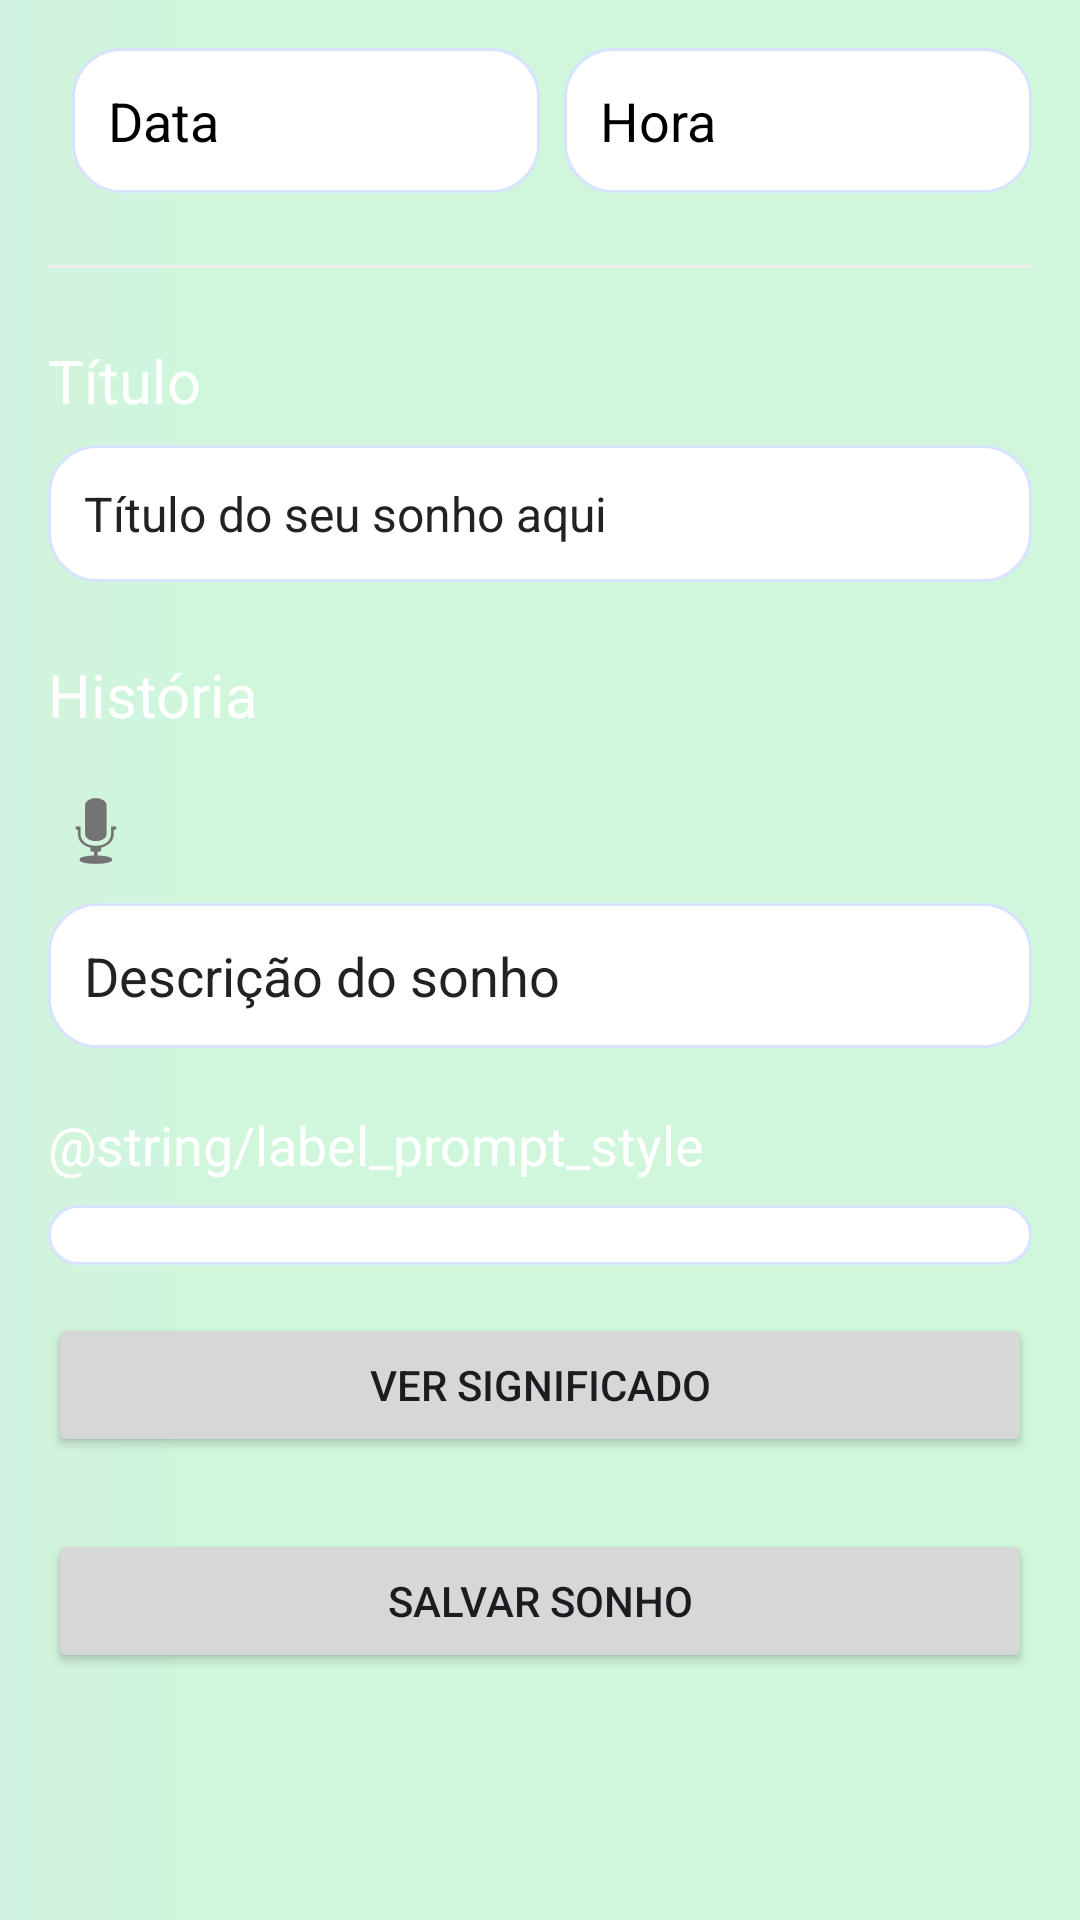

Locate icon controls on the screen. Image size 1080 x 1920, boxes as (x1, y1, x2, y2).
Microfone: (75, 798, 117, 864)
